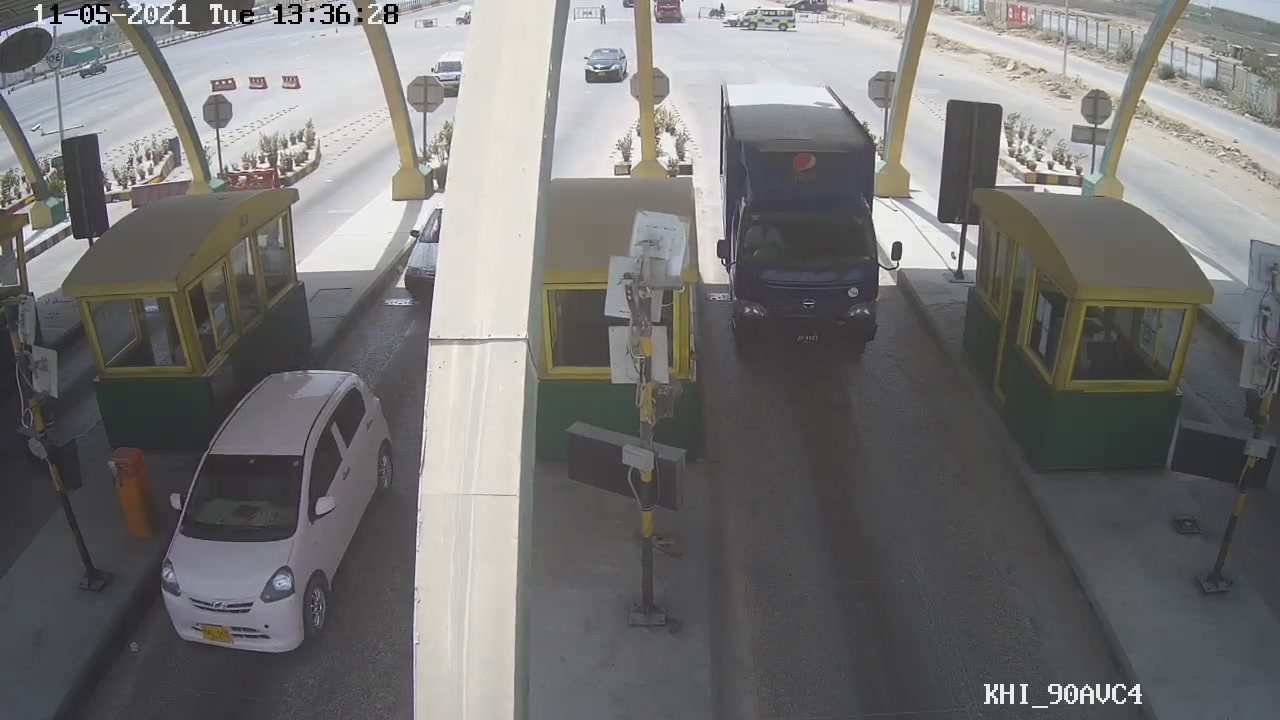F5: (710, 74, 907, 357)
